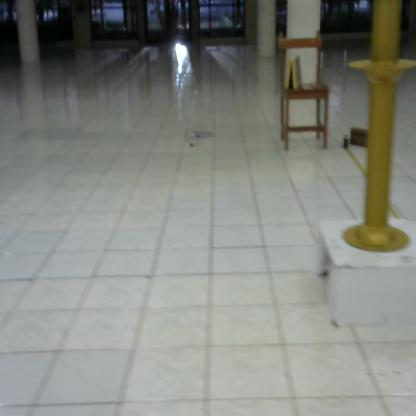pole: (336, 1, 416, 258)
